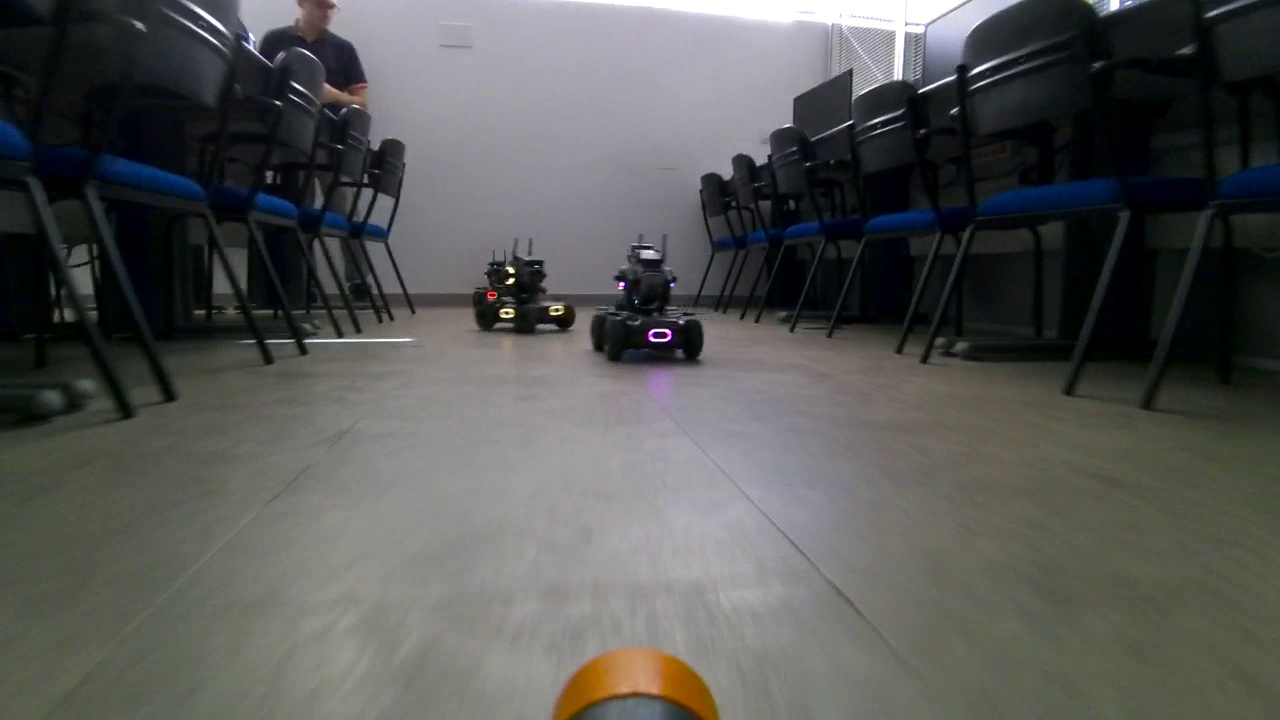robot: (590, 230, 708, 365), (467, 238, 582, 336)
